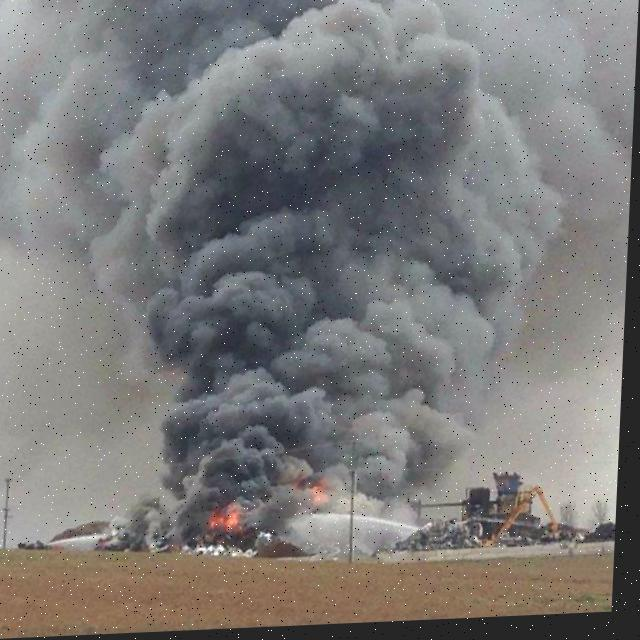Fire: (211, 506, 252, 539), (314, 485, 338, 511)
